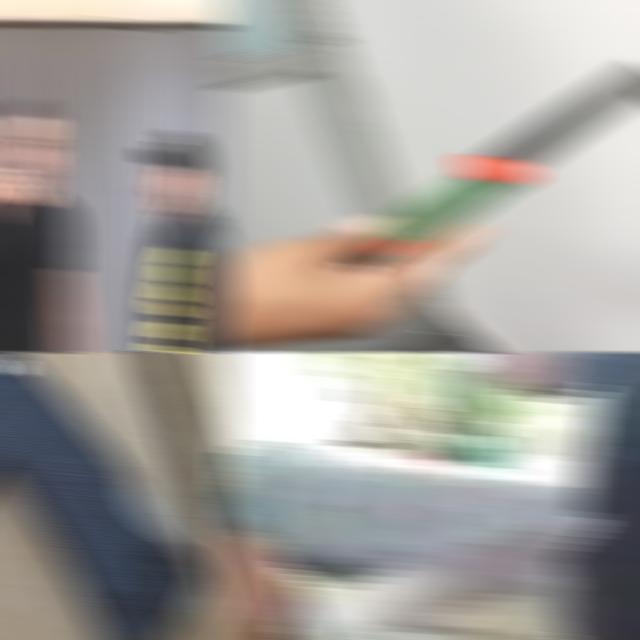Knife: (348, 64, 640, 266)
Knife_Handle: (216, 514, 608, 640), (0, 136, 32, 222)
